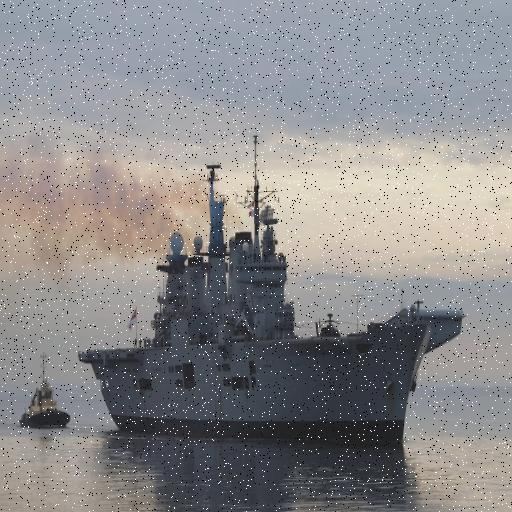Portanaves: (74, 129, 466, 451)
